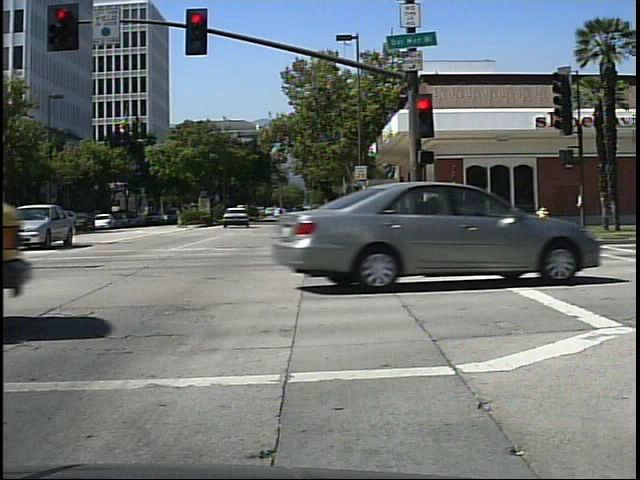person: (276, 204, 288, 222)
